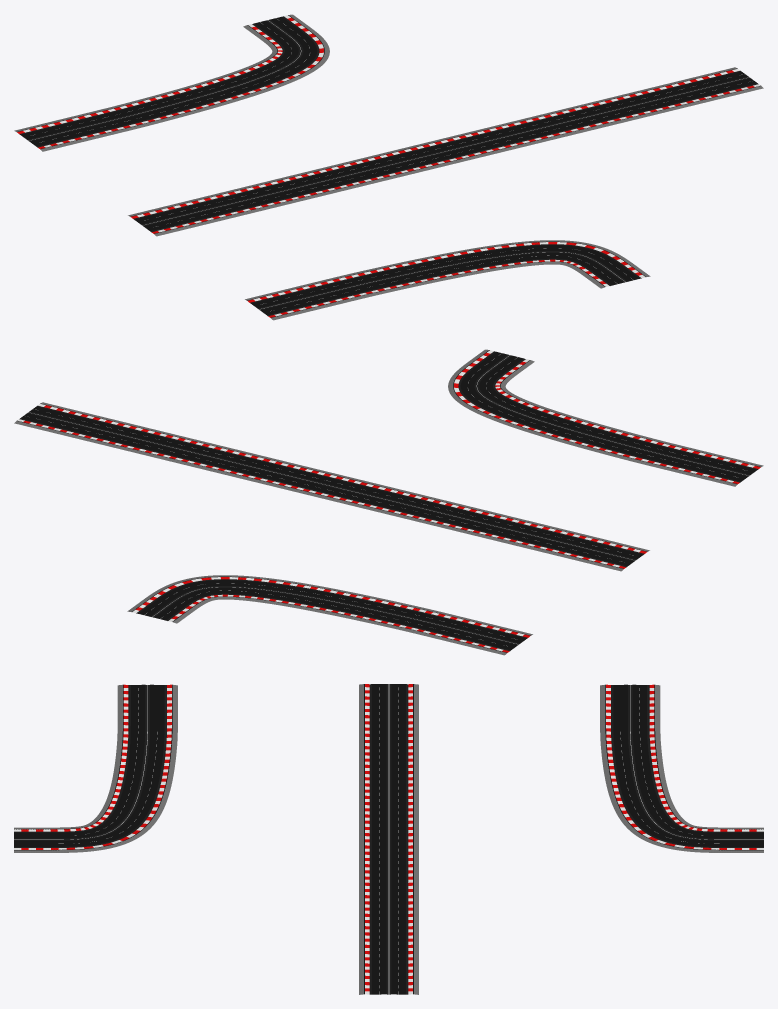
3 renders of one model, top to bottom at view 1: azimuth 30°, elevation 25°; view 2: azimuth 150°, elevation 25°; view 3: azimuth 270°, elevation 25°, orthographic. The views are drawn at different scales.
Visible parts, largest first — view 1: Grid.001, Grid.002, Grid; view 2: Grid.001, Grid, Grid.002; view 3: Grid.001, Grid, Grid.002.
Part boxes in pixels (x1=…): Grid.001: x1=128, y1=67, x2=763, y2=236; Grid.002: x1=14, y1=14, x2=329, y2=151; Grid: x1=245, y1=240, x2=650, y2=320; Grid.001: x1=14, y1=402, x2=649, y2=571; Grid: x1=448, y1=349, x2=763, y2=486; Grid.002: x1=127, y1=575, x2=532, y2=655; Grid.001: x1=359, y1=684, x2=418, y2=994; Grid: x1=14, y1=684, x2=177, y2=852; Grid.002: x1=600, y1=684, x2=763, y2=852.
Bounding box in the file's own units: 304 × 0.31 × 311.
